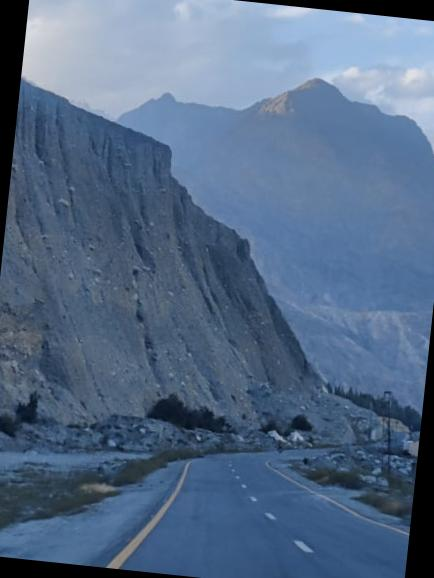right_turn: (166, 411, 374, 499)
